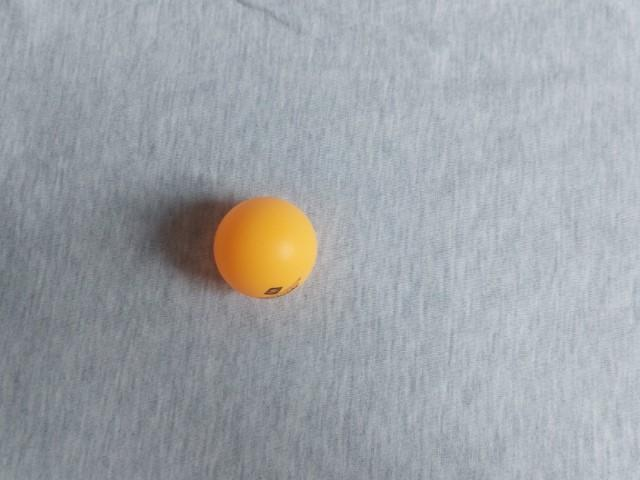oball: (315, 175, 433, 287)
